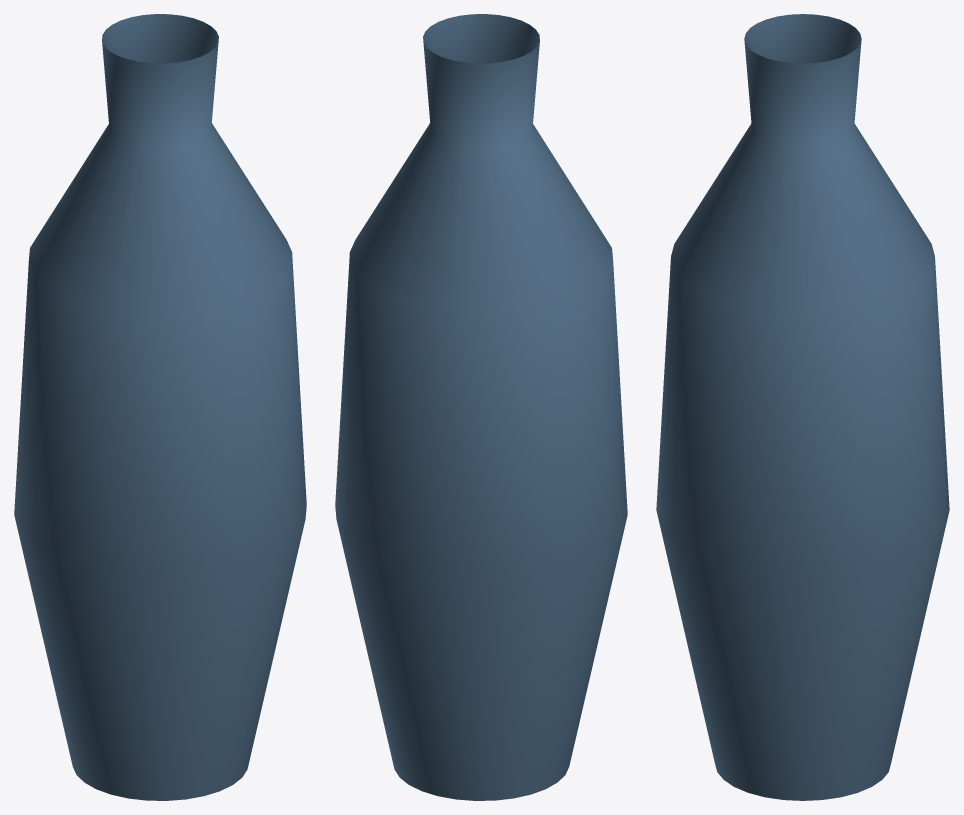
Rendered from LIT-VAS-tall.glb.
3 views of the same model, side by side, from view 1: azimuth 30°, elevation 25°; view 2: azimuth 150°, elevation 25°; view 3: azimuth 270°, elevation 25° (orthographic).
Visible parts, largest first — view 1: LIT-VAS-tall; view 2: LIT-VAS-tall; view 3: LIT-VAS-tall.
Part boxes in pixels (box(x1,y1,x2,y2)): LIT-VAS-tall: box(14, 14, 306, 800); LIT-VAS-tall: box(335, 14, 627, 800); LIT-VAS-tall: box(656, 14, 949, 800).
Bounding box in the file's own units: 0.22 × 0.6 × 0.22.
